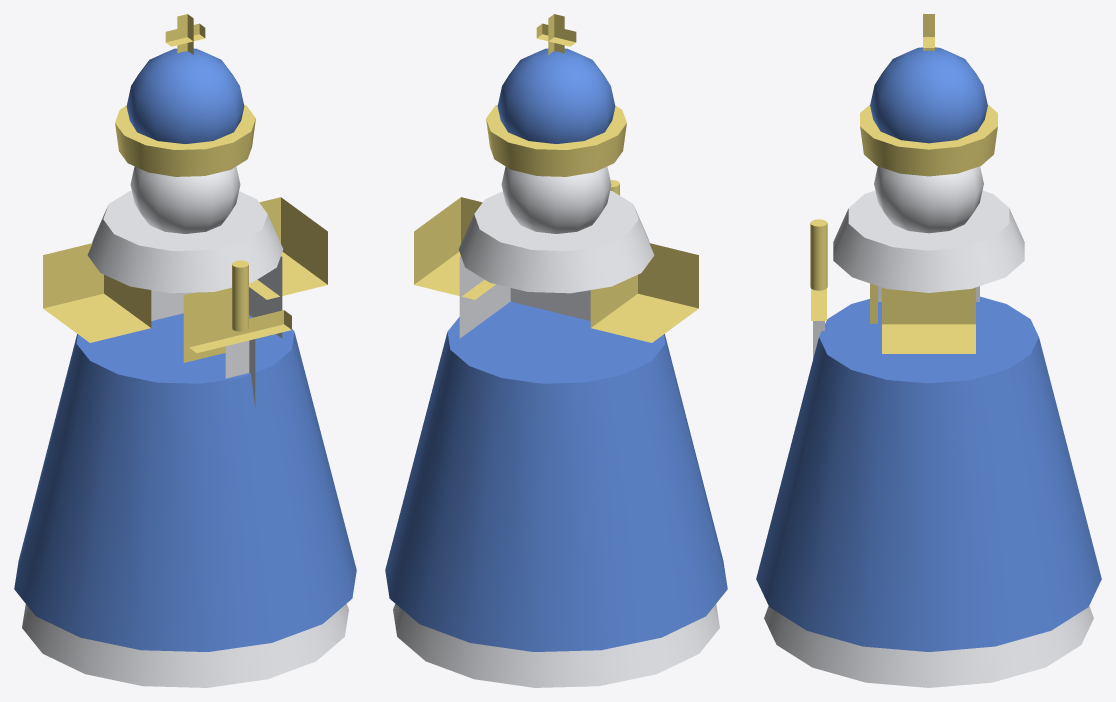
The model's file is king.glb.
The picture shows the model from 3 angles, left to right: view 1: azimuth 30°, elevation 25°; view 2: azimuth 150°, elevation 25°; view 3: azimuth 270°, elevation 25°; orthographic projection.
Parts seen in each view (by area): view 1: king; view 2: king; view 3: king.
Part boxes in pixels (<box>): king: <box>14,14,356,687</box>; king: <box>385,14,727,687</box>; king: <box>756,14,1101,687</box>.
Bounding box in the file's own units: 0.88 × 1.69 × 0.88.
